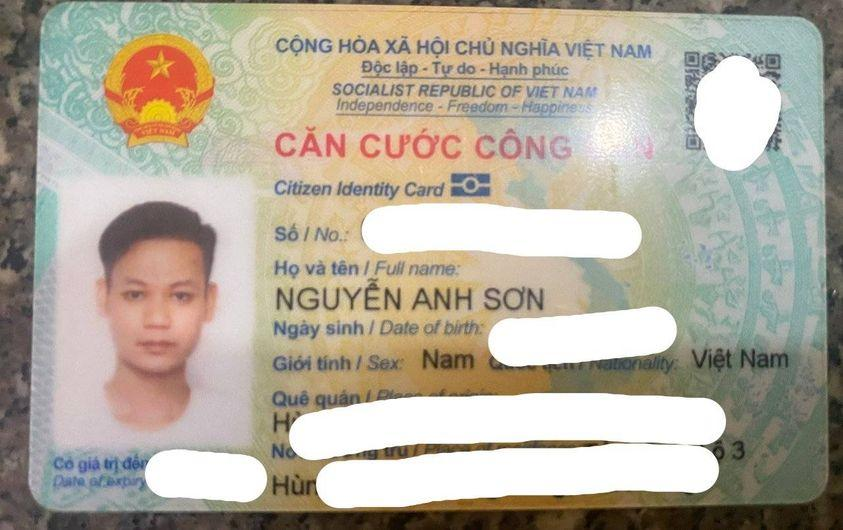bottom_left: (11, 464, 61, 512)
bottom_right: (786, 466, 833, 507)
image_person: (61, 175, 255, 442)
top_left: (29, 0, 78, 30)
top_right: (789, 10, 834, 43)
